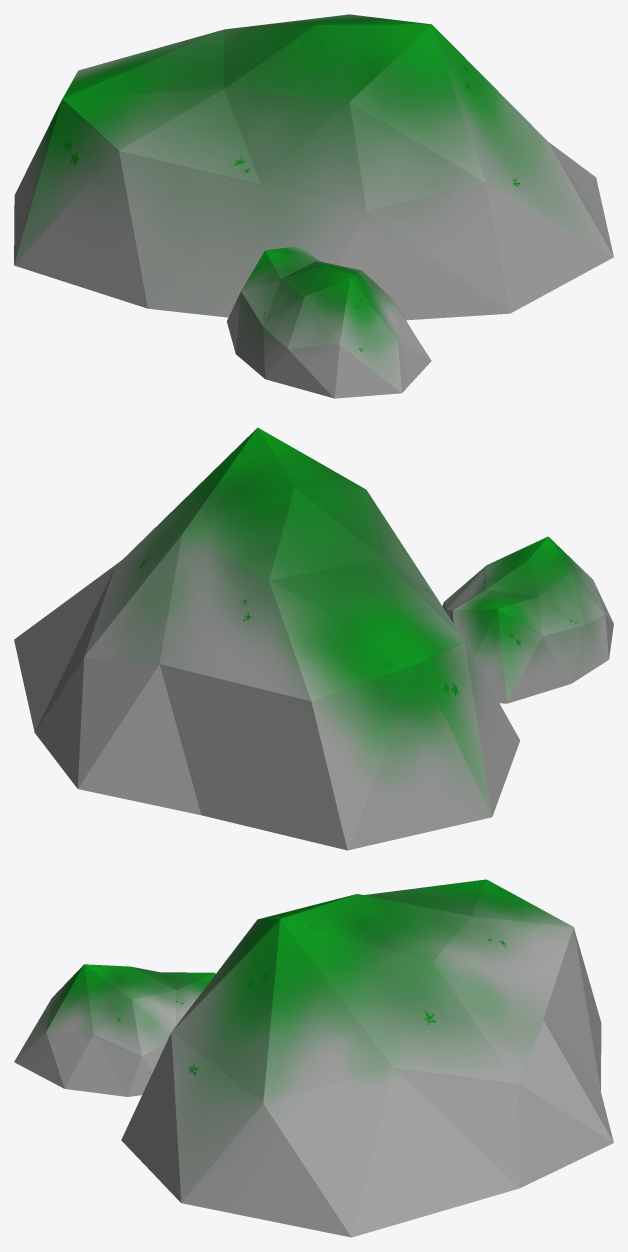
File: rock.fbx
3 renders of one model, top to bottom at view 1: azimuth 30°, elevation 25°; view 2: azimuth 150°, elevation 25°; view 3: azimuth 270°, elevation 25°, orthographic. The views are drawn at different scales.
Visible parts, largest first — view 1: big, little; view 2: big, little; view 3: big, little.
Part boxes in pixels (<box>): big: <box>14,14,613,320</box>; little: <box>226,245,431,398</box>; big: <box>14,427,520,850</box>; little: <box>442,536,613,703</box>; big: <box>121,879,613,1237</box>; little: <box>14,964,215,1096</box>.
Bounding box in the file's own units: 714 × 302 × 728.
2 materials, 2 textured.
